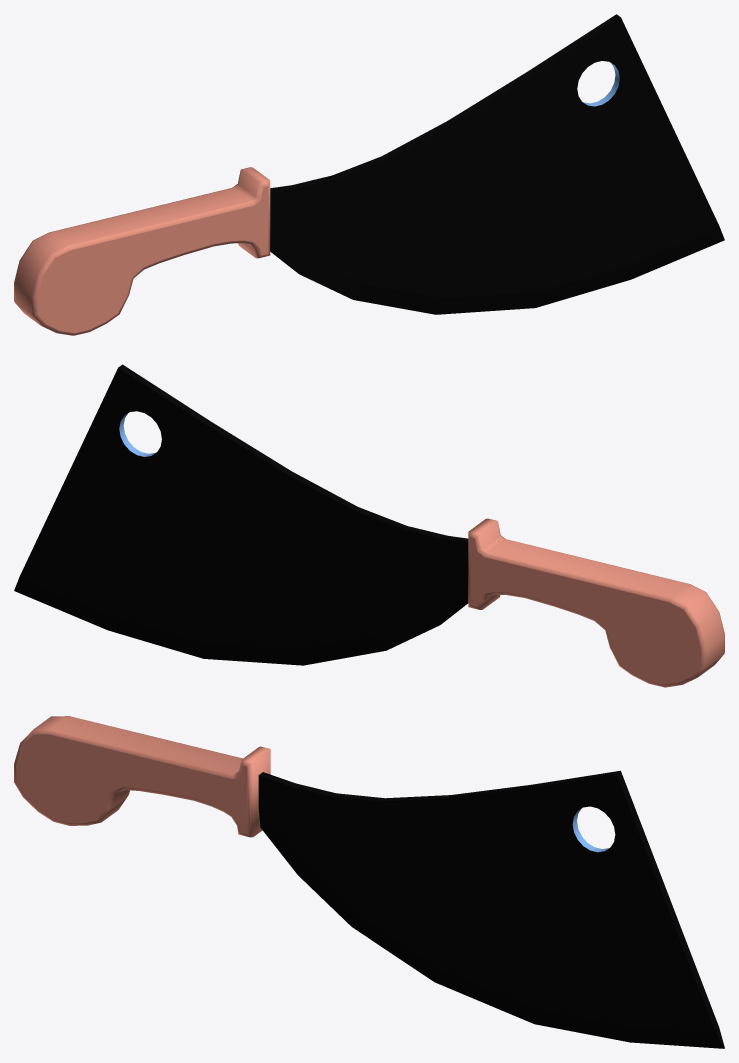
Rendered from cleaver.fbx.
3 views of the same model, one above another, from view 1: azimuth 30°, elevation 25°; view 2: azimuth 150°, elevation 25°; view 3: azimuth 330°, elevation 25° (orthographic).
Visible parts, largest first — view 1: Line002, Line001; view 2: Line002, Line001; view 3: Line002, Line001.
Part boxes in pixels (box(x1,y1,x2,y2)): Line002: box(270, 14, 724, 314); Line001: box(14, 167, 270, 335); Line002: box(14, 364, 468, 665); Line001: box(468, 518, 724, 687); Line002: box(258, 770, 724, 1048); Line001: box(14, 716, 270, 837).
Bounding box in the file's own units: 416 × 154 × 22.
